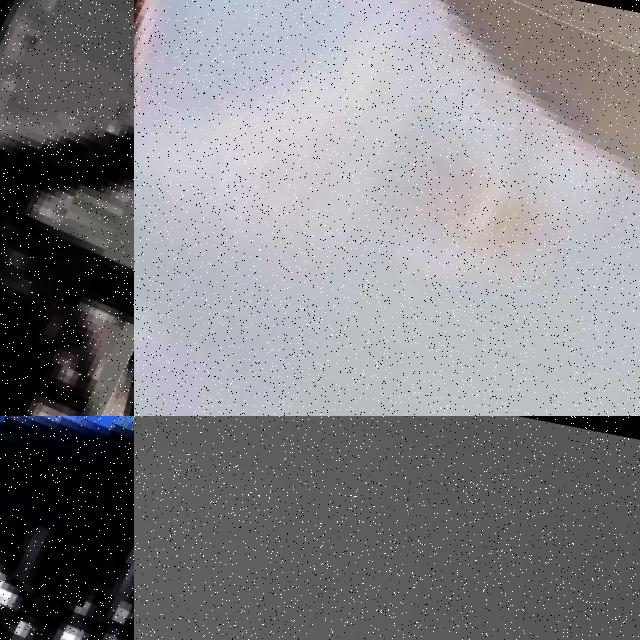0: (0, 0, 134, 416), (0, 416, 134, 640)
drone: (134, 0, 640, 416)
